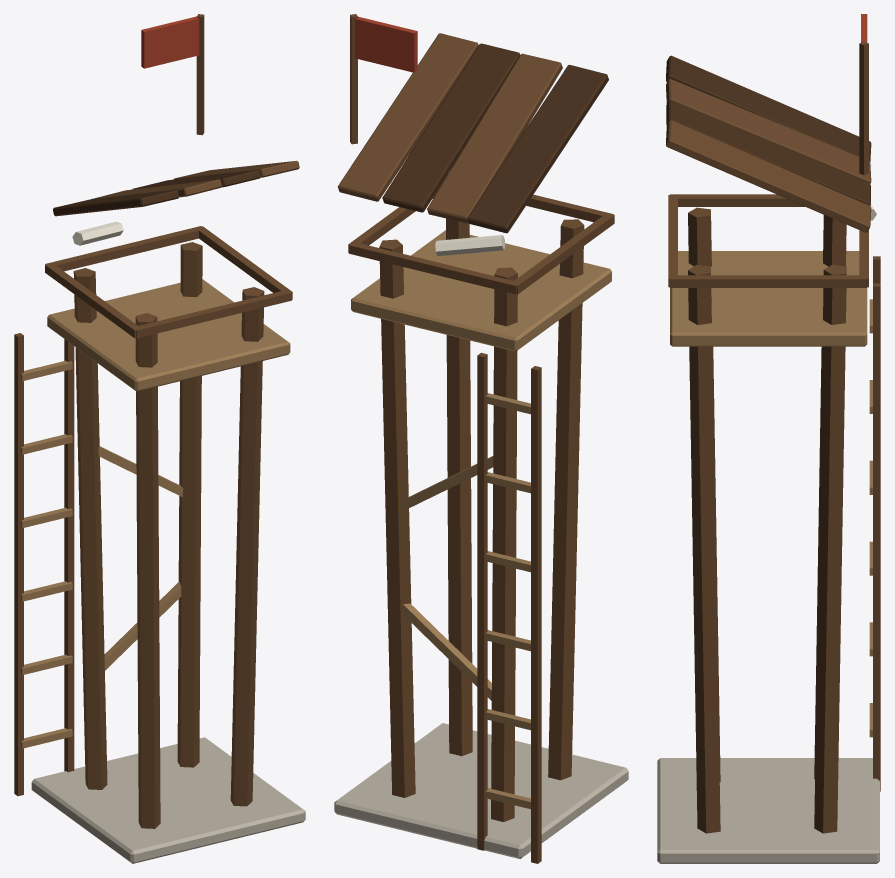
The model's file is watchtower.fbx.
3 views of the same model, side by side, from view 1: azimuth 30°, elevation 25°; view 2: azimuth 150°, elevation 25°; view 3: azimuth 270°, elevation 25° (orthographic). The views are drawn at different scales.
Parts seen in each view (by area): view 1: Building, Flag; view 2: Building, Flag; view 3: Building, Flag.
Boxes of the visible parts, box(x1,y1,x2,y2) form: Building: box(14, 160, 305, 863); Flag: box(141, 14, 204, 135); Building: box(334, 33, 628, 863); Flag: box(350, 14, 417, 144); Building: box(657, 55, 880, 863); Flag: box(859, 14, 868, 175).
Size of the model in its own units: 0.7641 by 0.7025 by 2.83.
